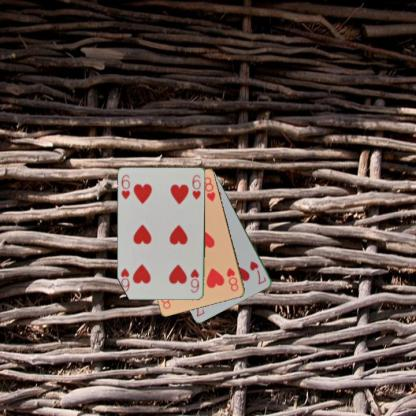6h: (119, 172, 131, 201), (188, 266, 200, 294)
7h: (247, 259, 268, 286)
8h: (224, 265, 240, 292)
